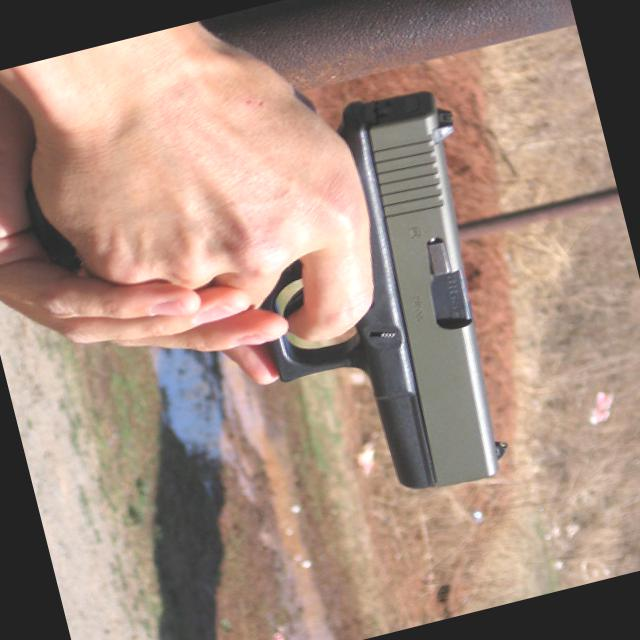handgun: (16, 60, 544, 572)
